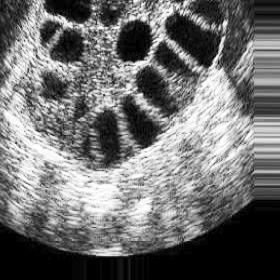PCOS: (120, 94, 157, 148), (173, 9, 204, 65), (142, 67, 173, 118), (157, 41, 195, 80), (119, 22, 150, 60), (51, 26, 82, 61), (36, 72, 69, 104), (100, 113, 123, 156), (191, 0, 231, 24), (45, 2, 90, 18), (102, 5, 124, 29), (40, 21, 59, 42), (80, 135, 94, 160), (75, 96, 86, 116)
